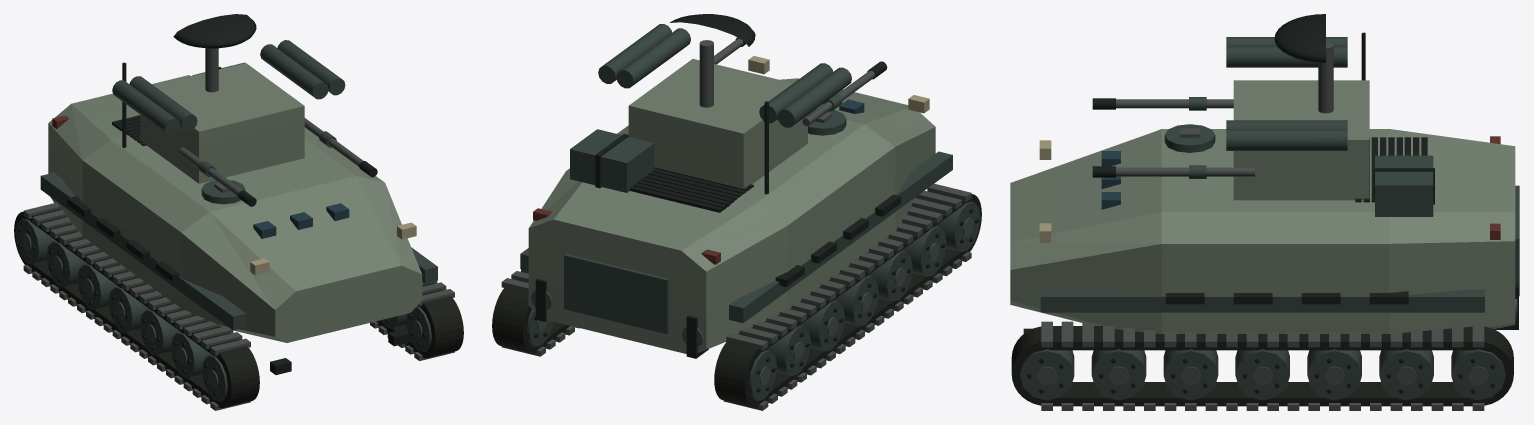
The model's file is spaa.glb.
The picture shows the model from 3 angles, left to right: view 1: azimuth 30°, elevation 25°; view 2: azimuth 150°, elevation 25°; view 3: azimuth 270°, elevation 25°; orthographic projection. The views are drawn at different scales.
Visible parts, largest first — view 1: armor (×2), equipment (×4), glass; view 2: armor (×2), equipment (×3); view 3: armor (×2), equipment (×4), glass.
Boxes of the visible parts, left/top/right/bottom form: armor (×2): left=48, top=63, right=422, bottom=342; equipment (×4): left=14, top=14, right=463, bottom=410; glass: left=253, top=203, right=349, bottom=238; armor (×2): left=528, top=59, right=935, bottom=353; equipment (×3): left=492, top=14, right=981, bottom=410; armor (×2): left=1010, top=80, right=1515, bottom=333; equipment (×4): left=1011, top=14, right=1519, bottom=410; glass: left=1101, top=151, right=1120, bottom=209.
Size of the model in its own units: 3.31 by 3.59 by 5.24.
